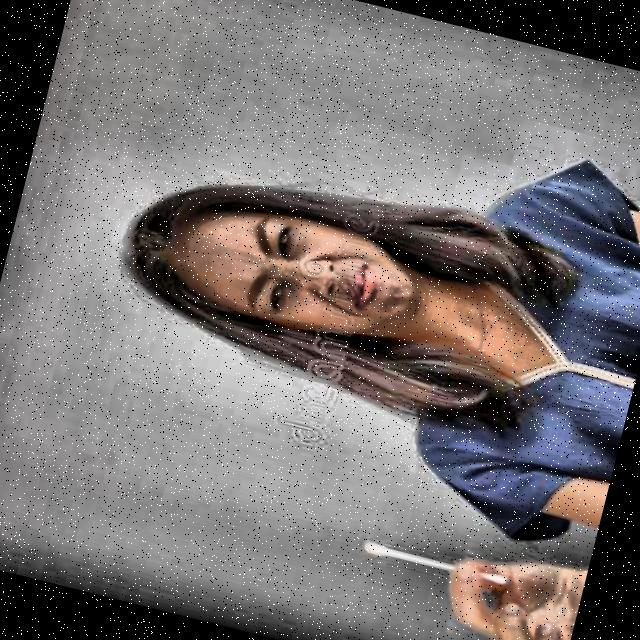disgust: (96, 143, 473, 409)
